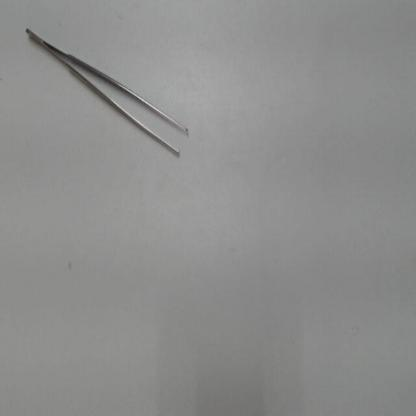Gillies Toothed Dissector: (21, 19, 197, 166)
